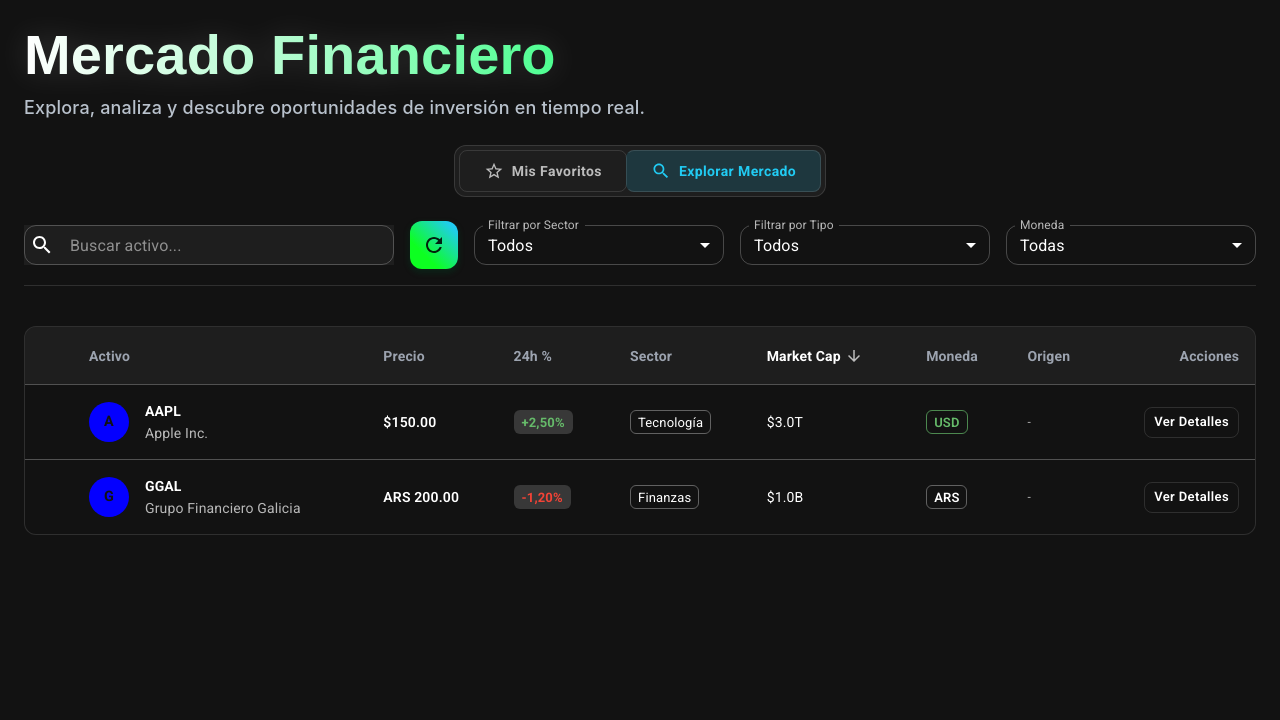
it: AssetSearch Integration › should filter by search term on Enter key
Type "MSFT" into the dropdown with placeholder "Buscar activo...".
click(224, 245); type("MSFT")  # box [62, 231, 385, 259]
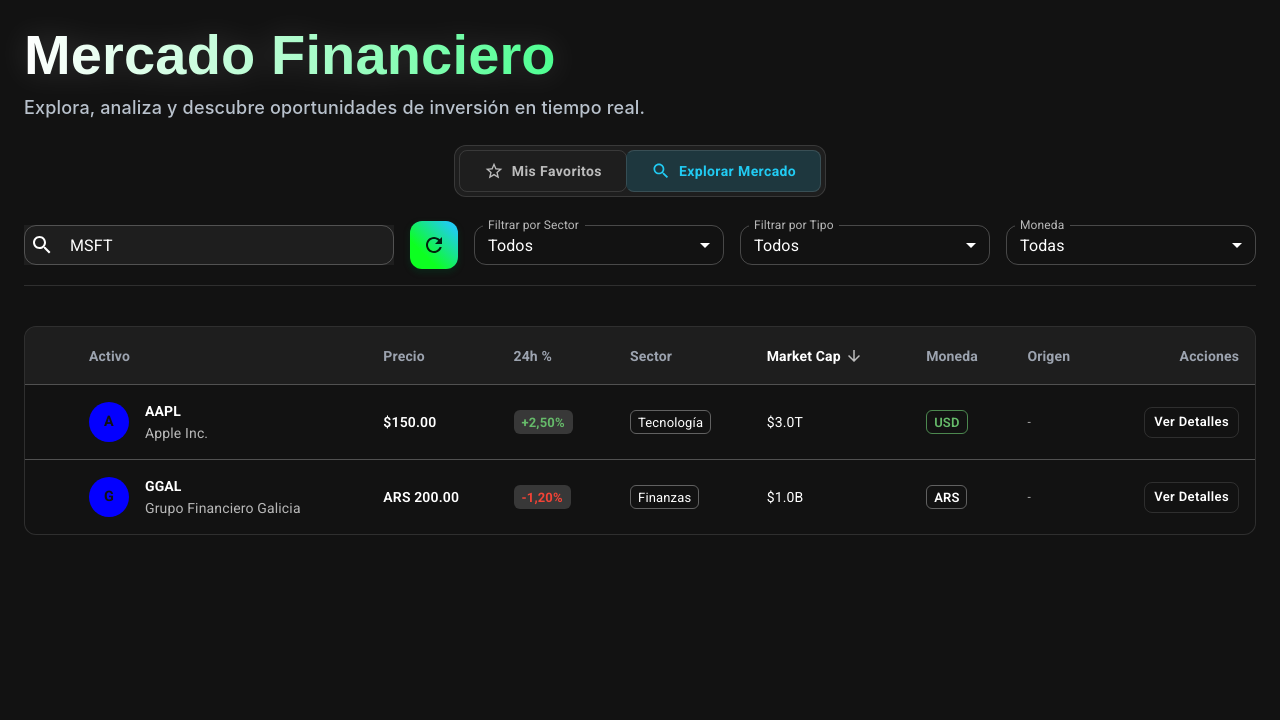
Press Enter in the dropdown with placeholder "Buscar activo...", box [62, 231, 355, 259]
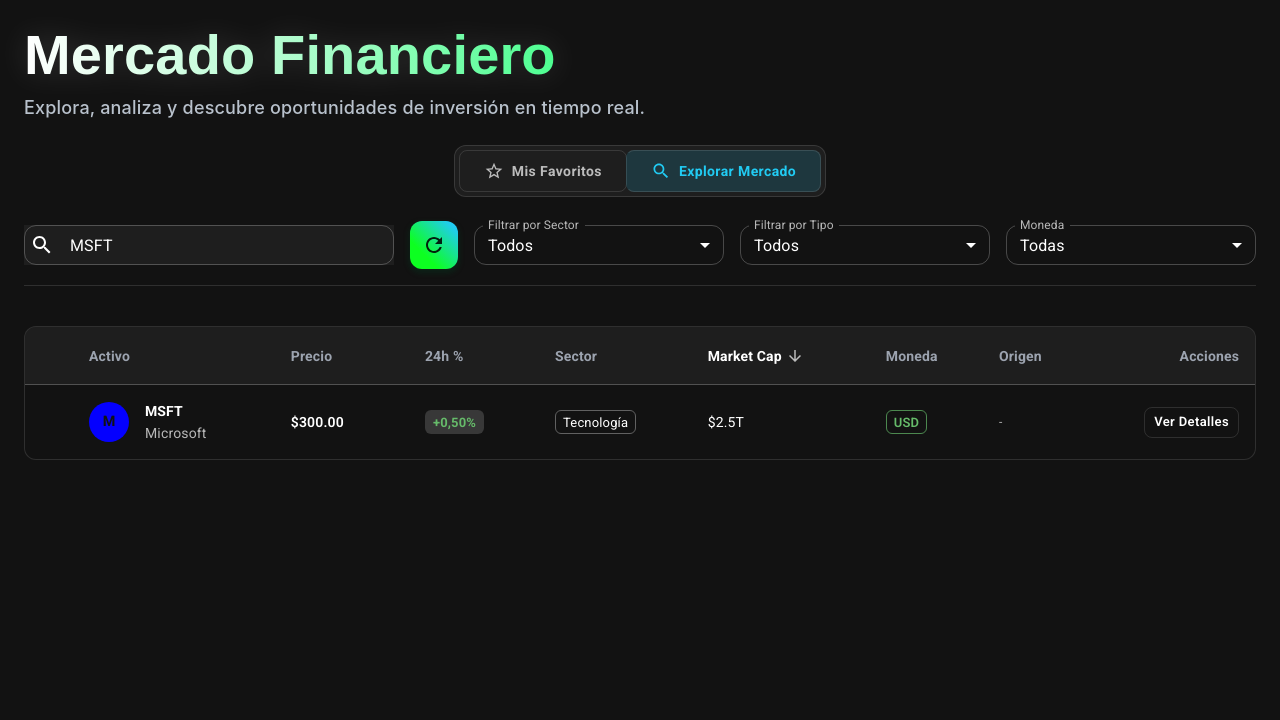
Result: the heading "MSFT" is shown at [145, 403, 183, 419]
Result: the heading "AAPL" is gone
